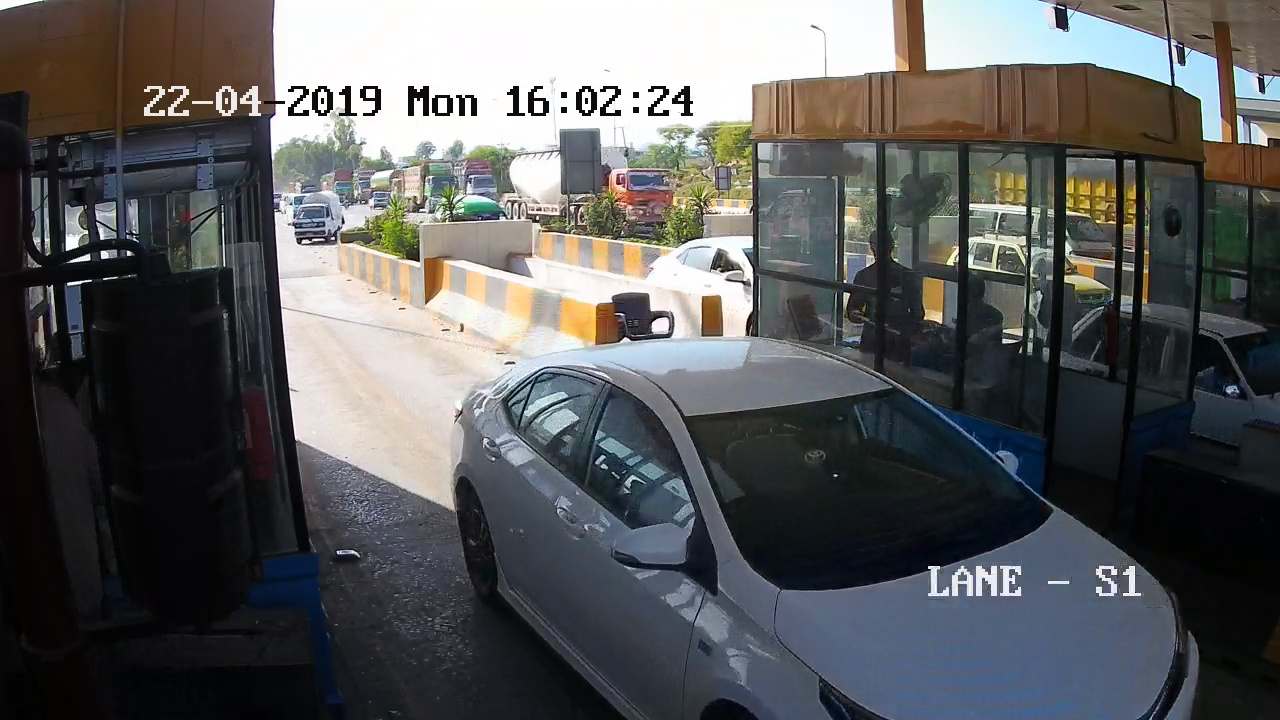car: (425, 339, 1166, 720)
